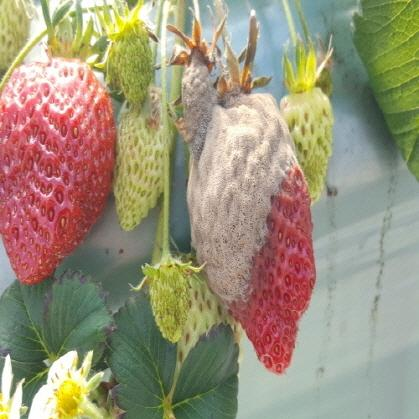Gray Mold: (185, 9, 310, 324), (156, 12, 236, 156)
